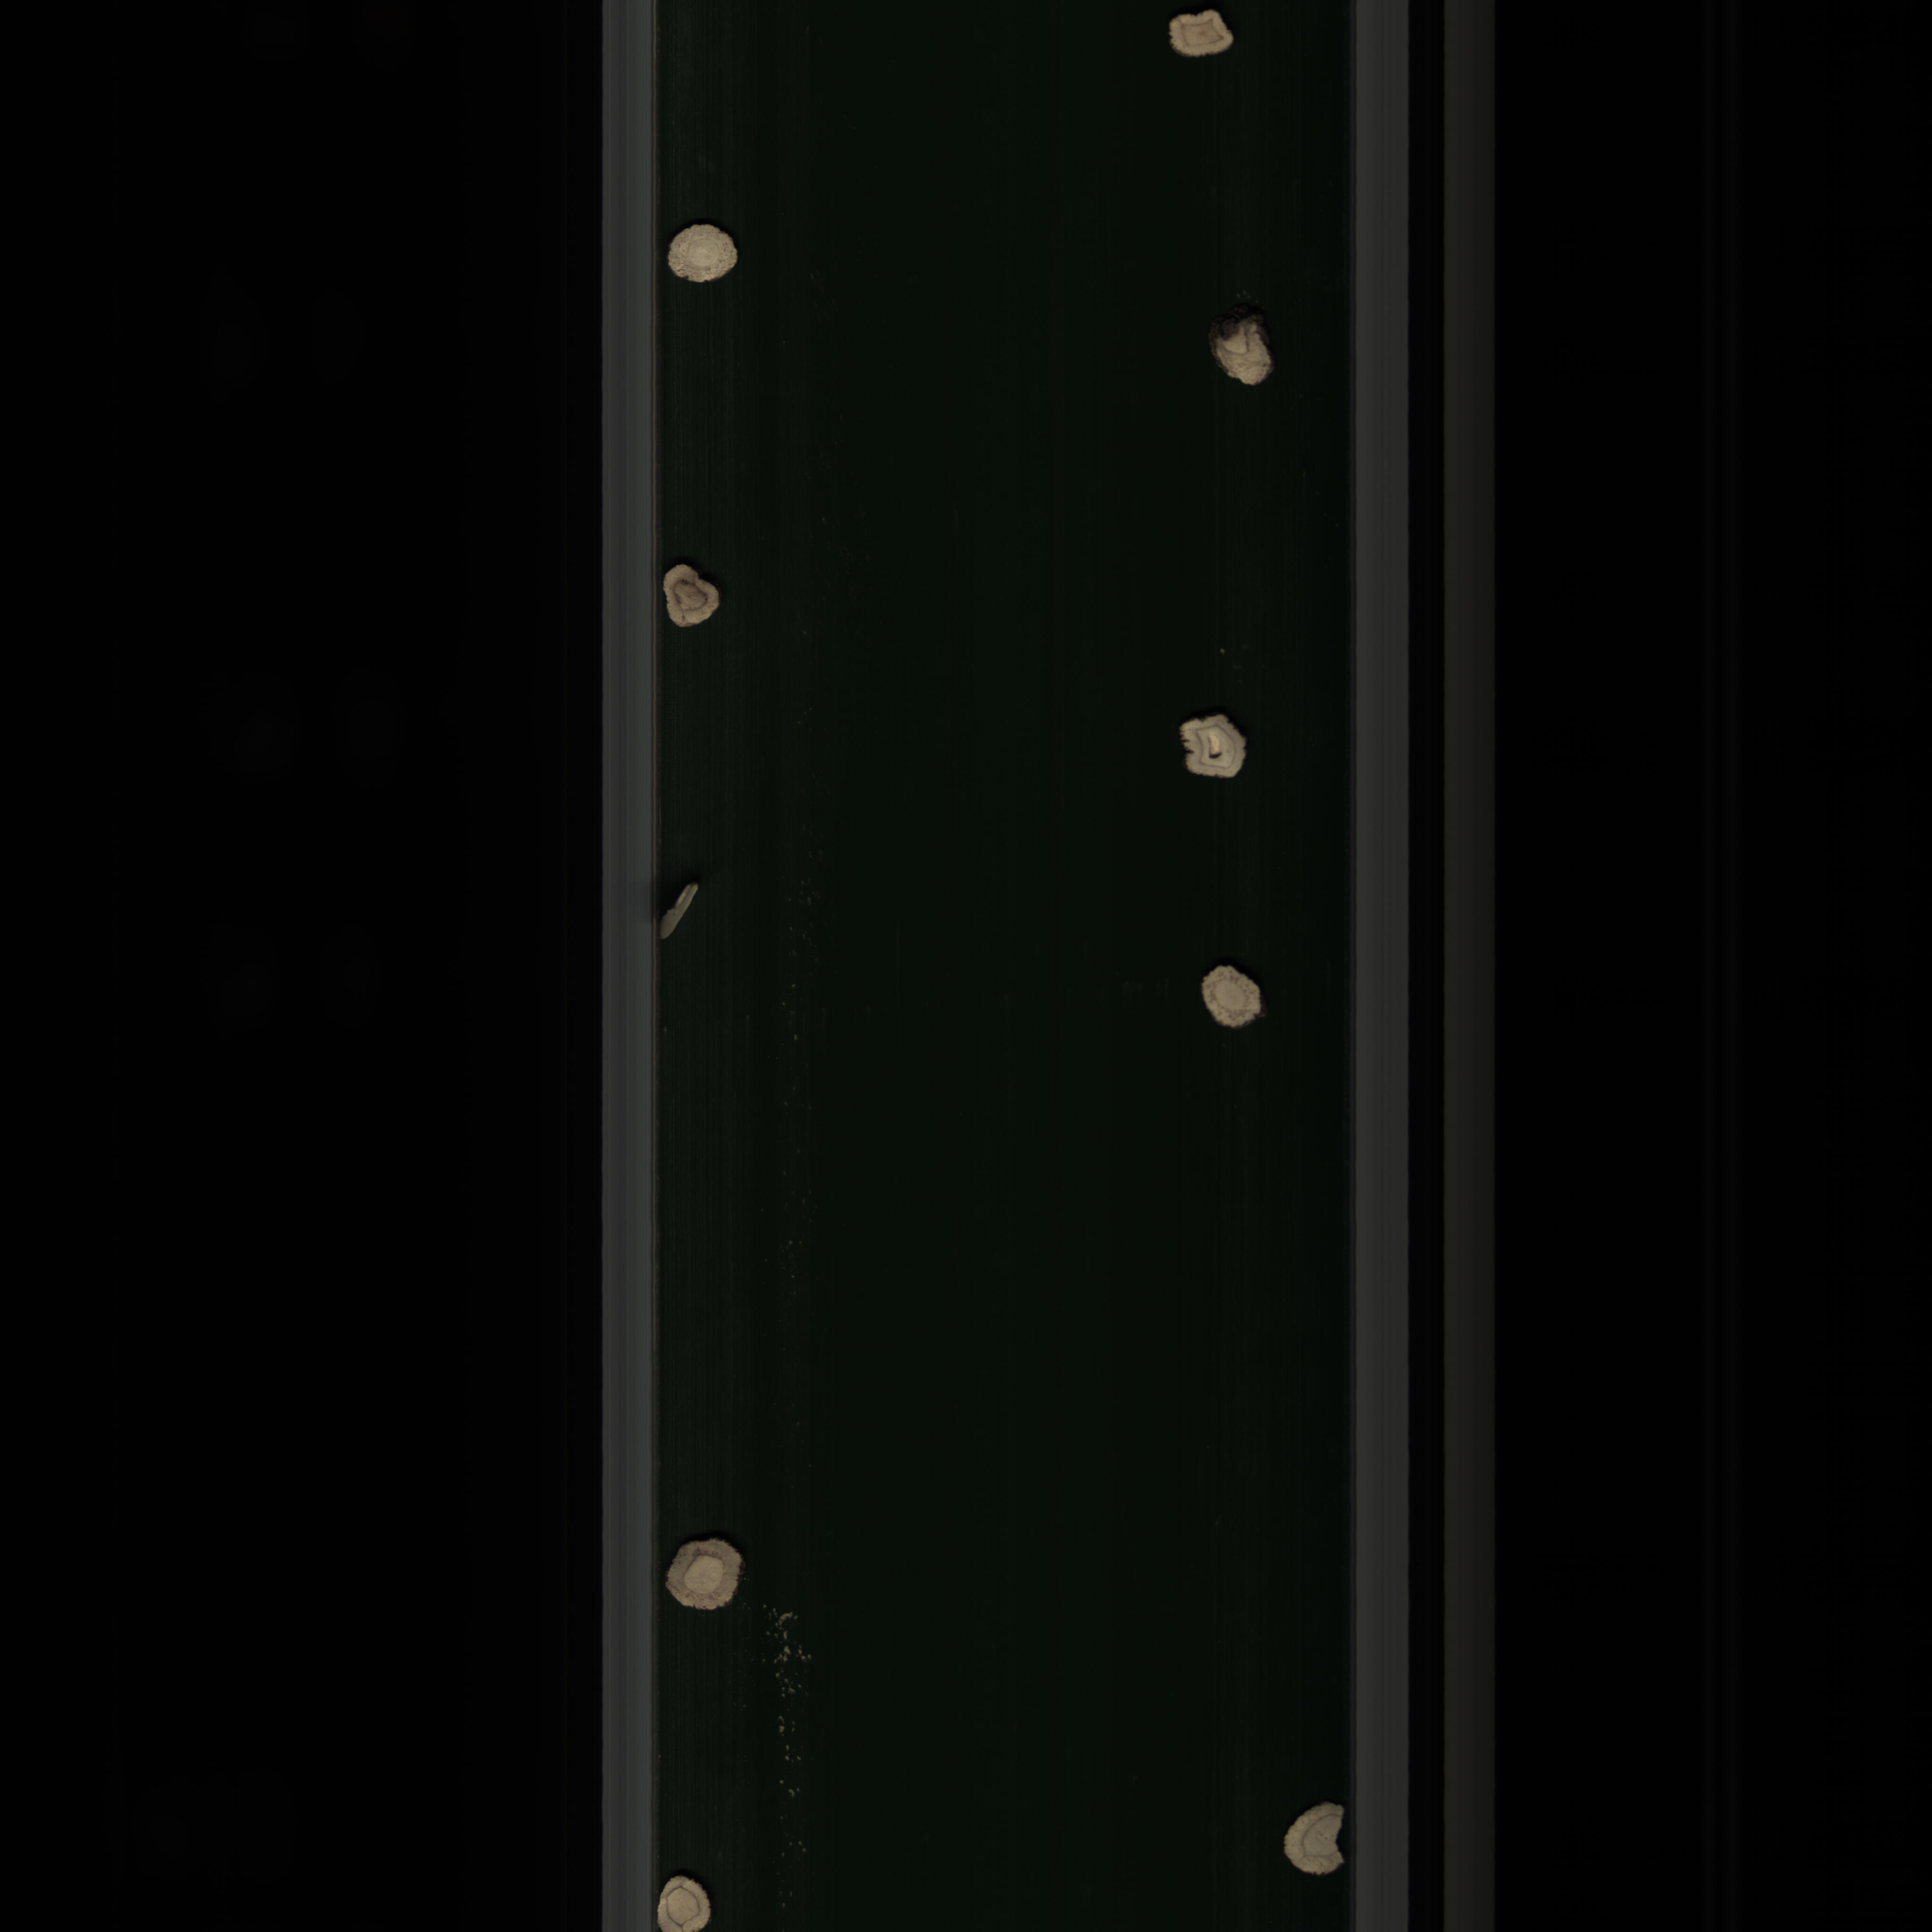bark: (651, 878, 713, 955)
debris: (1277, 1796, 1359, 1881)
distortion: (1164, 704, 1249, 786)
moldy: (1200, 311, 1292, 403), (660, 554, 731, 635), (1157, 12, 1249, 60)
